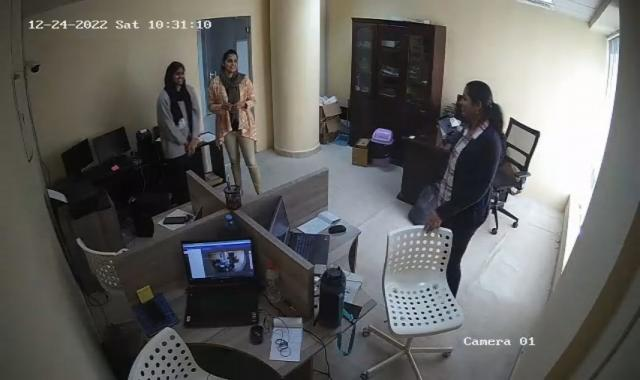no_hairnet: (459, 80, 496, 123), (163, 64, 187, 90), (221, 48, 238, 75)
